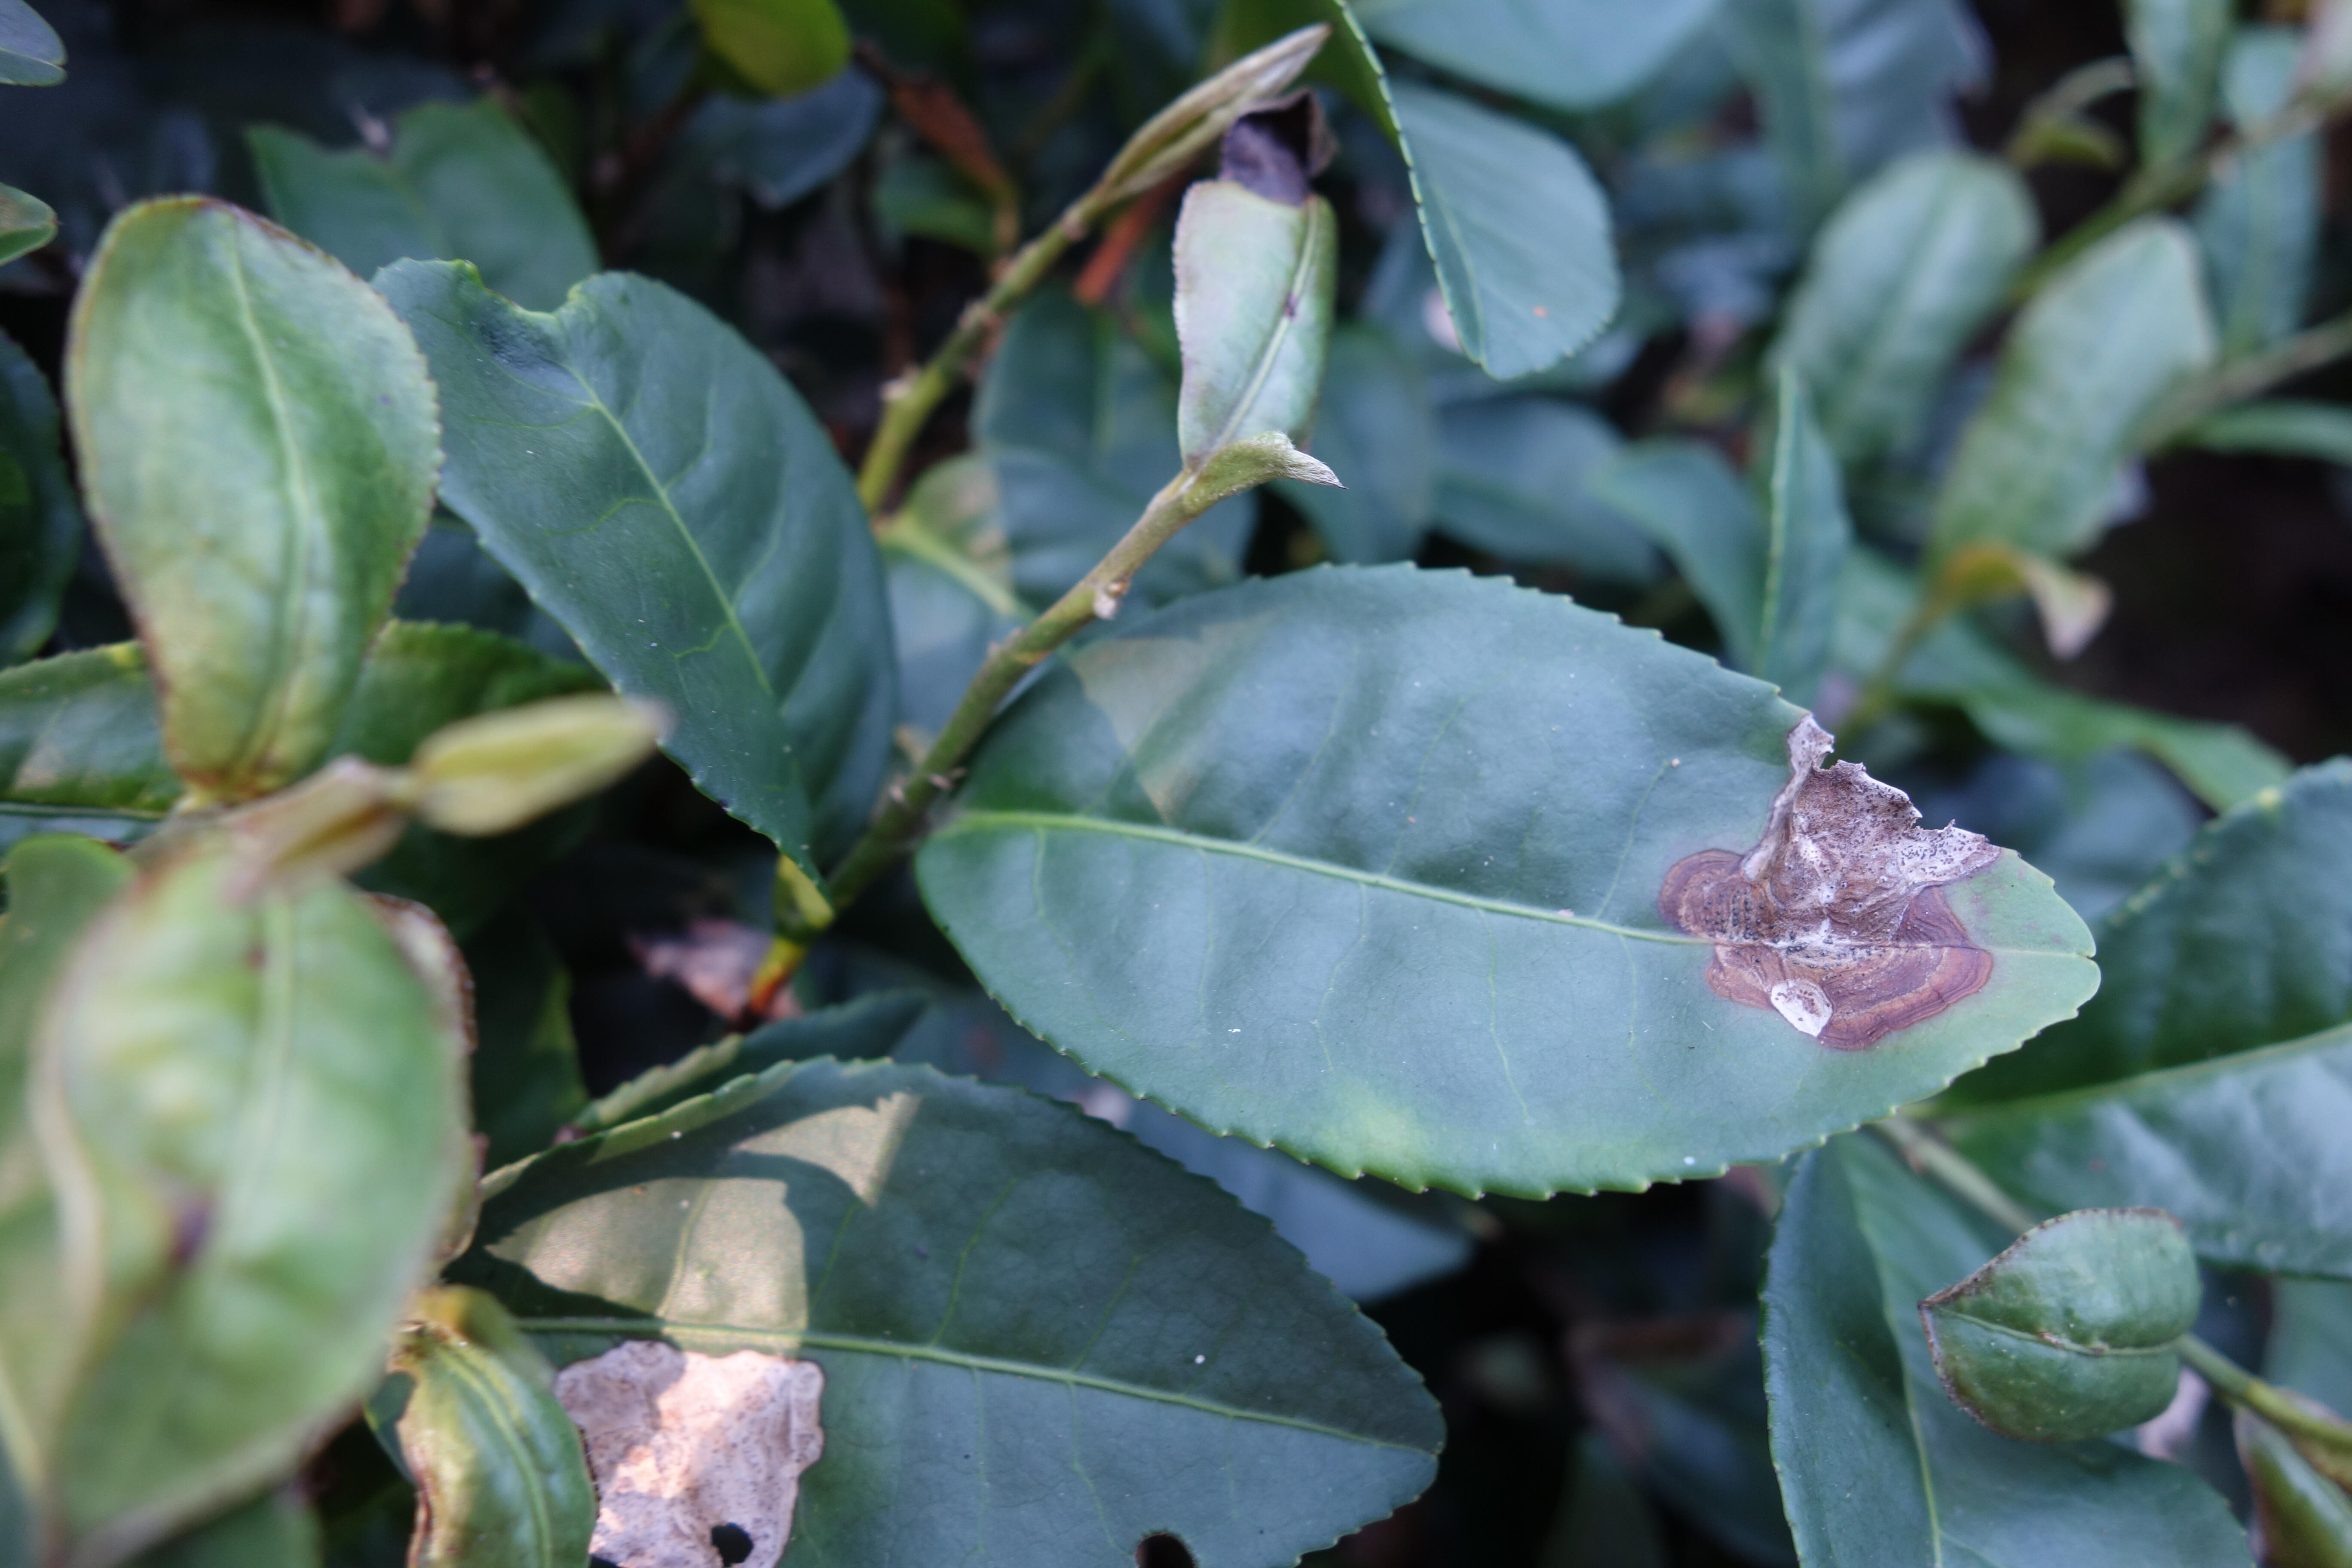chihuo_low: (367, 254, 889, 884)
tanju_high: (915, 560, 2105, 1213), (425, 1060, 1456, 1568), (1185, 91, 1342, 474)
tanju_low: (19, 828, 486, 1564), (68, 192, 441, 800), (1921, 1204, 2205, 1452)
